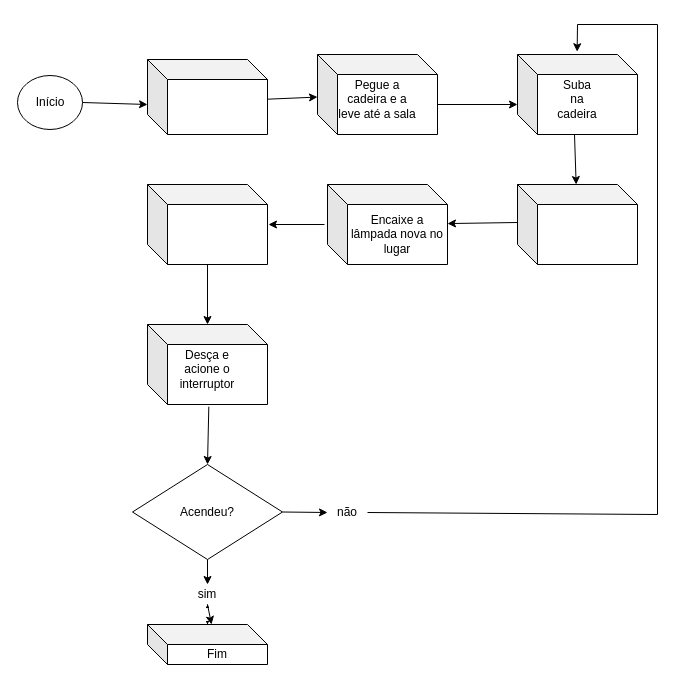
The diagram is 676 pixels wide and 682 high, and some of its shapes have lost their labels. Each missing label, with the centre of its shape:
"desrosqueie a lâmpada velha" goes at (577,224).
"Pegue uma nova lâmpada" goes at (207,96).
"Rosqueie até fixa-la" goes at (207,224).
